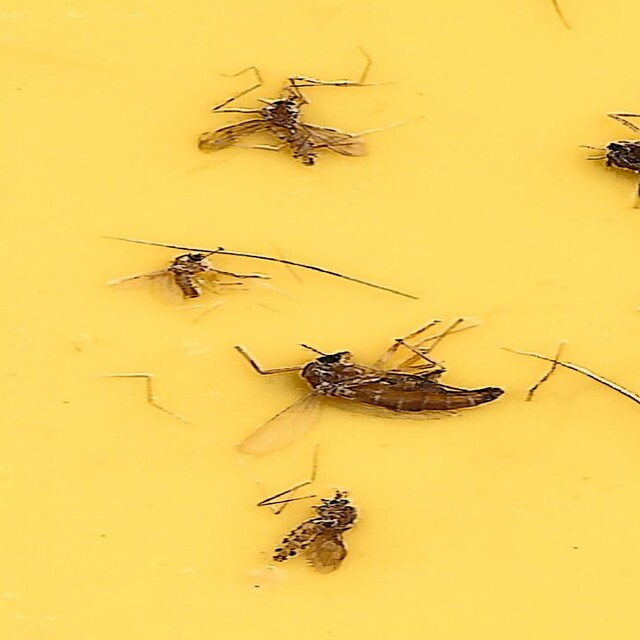Nematocera: (229, 320, 512, 462), (192, 63, 385, 169), (257, 492, 380, 577), (128, 248, 266, 300)
